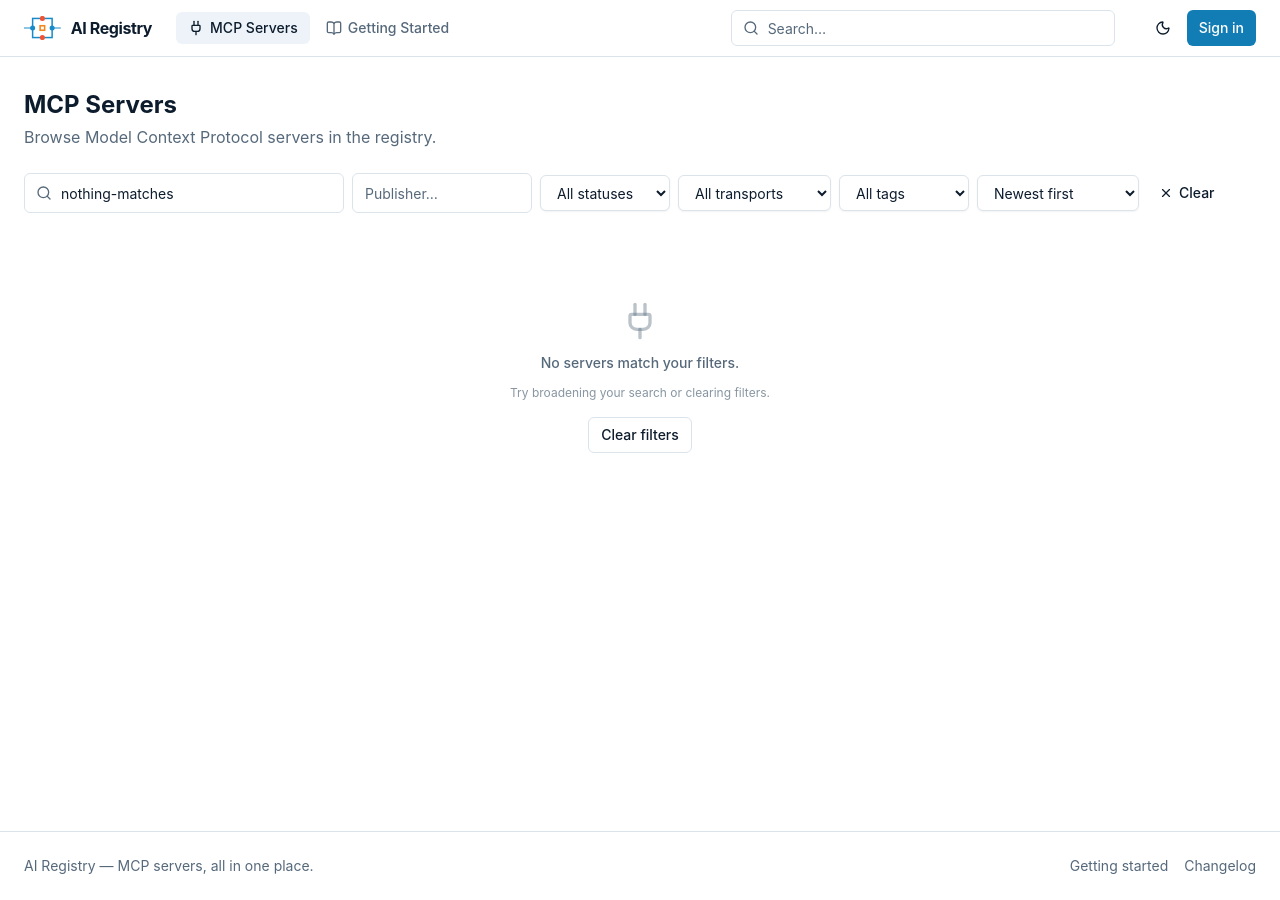
Test case: MCPListPage › clears every filter from the empty state
expect the text "No servers match your filters." is shown: met, box x1=541 y1=353 x2=739 y2=373
Step 1. Click the button "Clear filters" → (640, 435), box x1=588 y1=417 x2=692 y2=453
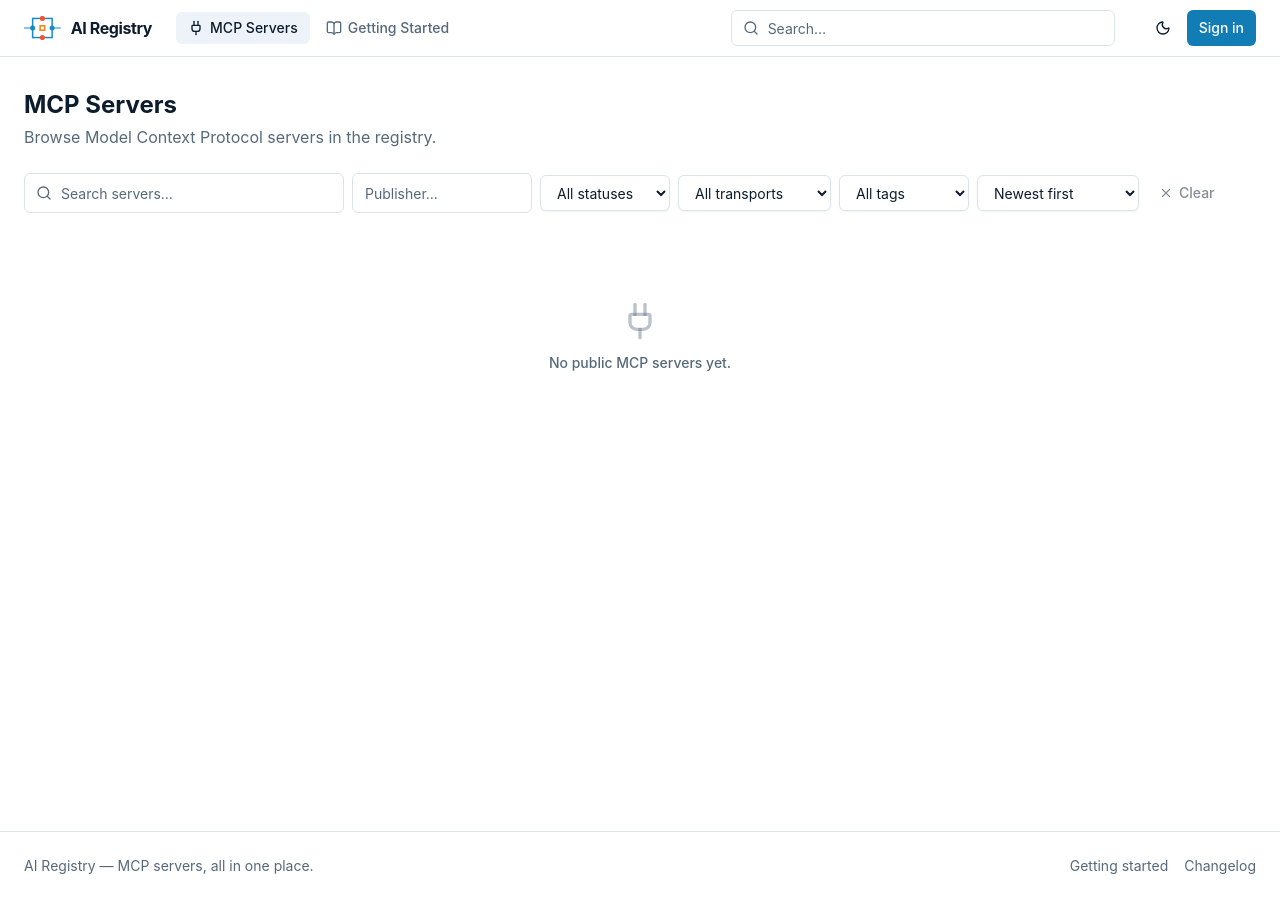
expect the text "No public MCP servers yet." is shown: met, box x1=549 y1=353 x2=731 y2=373
